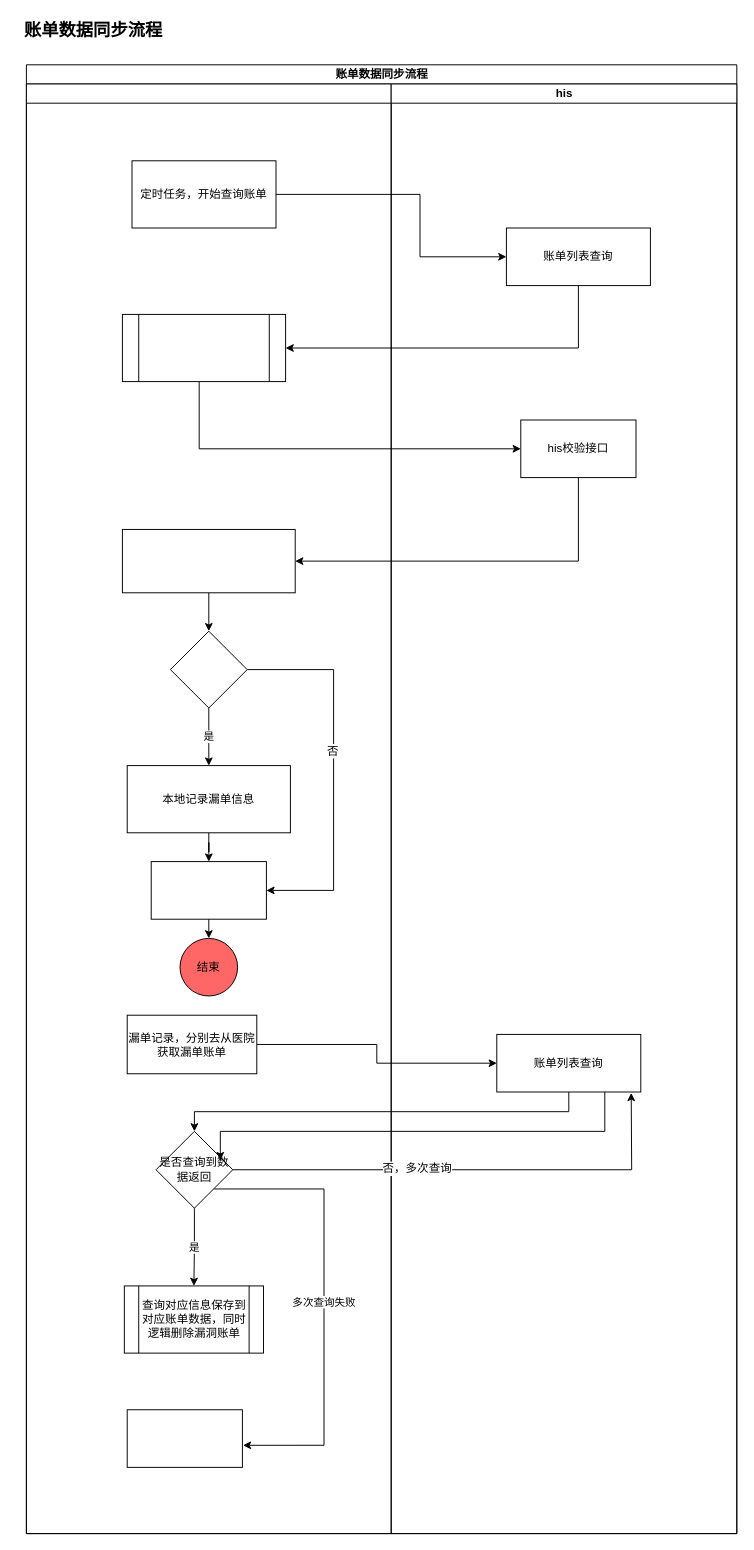
This 754x1550 diagram has some shape labels left out. The box of each missing label's shape, as (x1, y1, x2, y2) in pixels:
人工查找原因: (126, 1409, 242, 1467)
是否漏单: (169, 630, 247, 708)
查询结果入库，同时把查到的信息封装入参，调用校验接口: (121, 313, 286, 382)
校验结果: (121, 528, 295, 593)
记录核对结果: (150, 861, 266, 919)
账单平台: (25, 83, 391, 1534)
